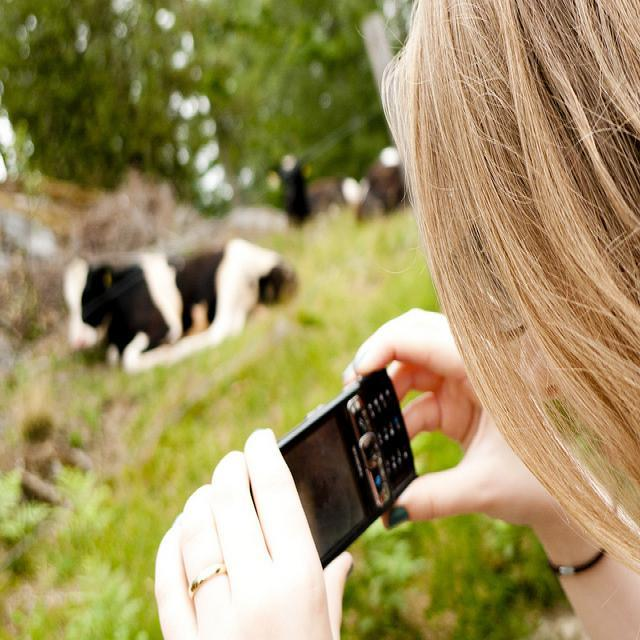cow: (60, 235, 298, 372), (265, 154, 381, 222)
